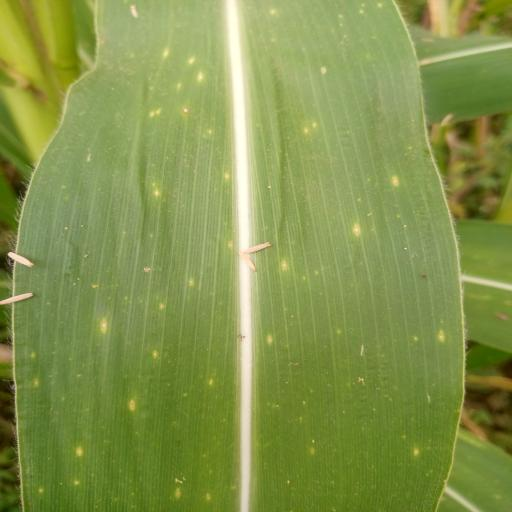Corn_Chlorotic_Leaf_Spot: (8, 0, 462, 512)
